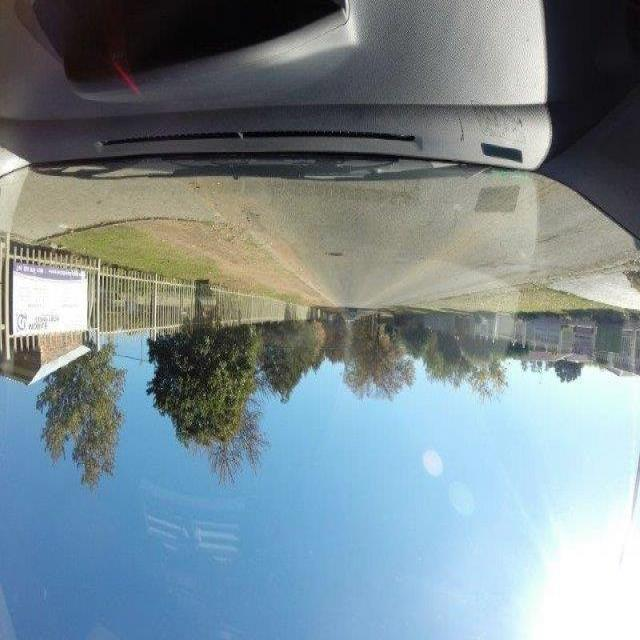lubang: (322, 256, 346, 262)
